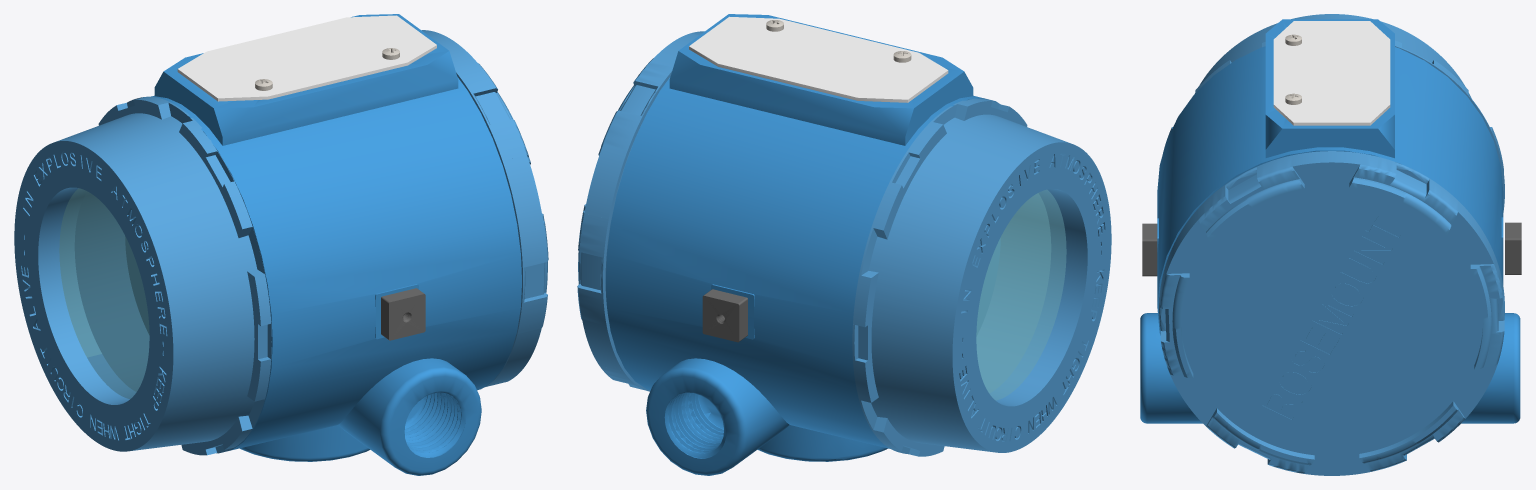
The picture shows the model from 3 angles, left to right: view 1: azimuth 30°, elevation 25°; view 2: azimuth 150°, elevation 25°; view 3: azimuth 270°, elevation 25°; orthographic projection. The views are drawn at different scales.
Visible parts, largest first — view 1: co2; view 2: co2; view 3: co2.
Boxes of the visible parts, x1,y1,x2,y2 form: co2: (14, 14, 548, 475); co2: (577, 14, 1111, 475); co2: (1140, 14, 1521, 475).
Bounding box in the file's own units: 0.0857 × 0.0824 × 0.0802.
